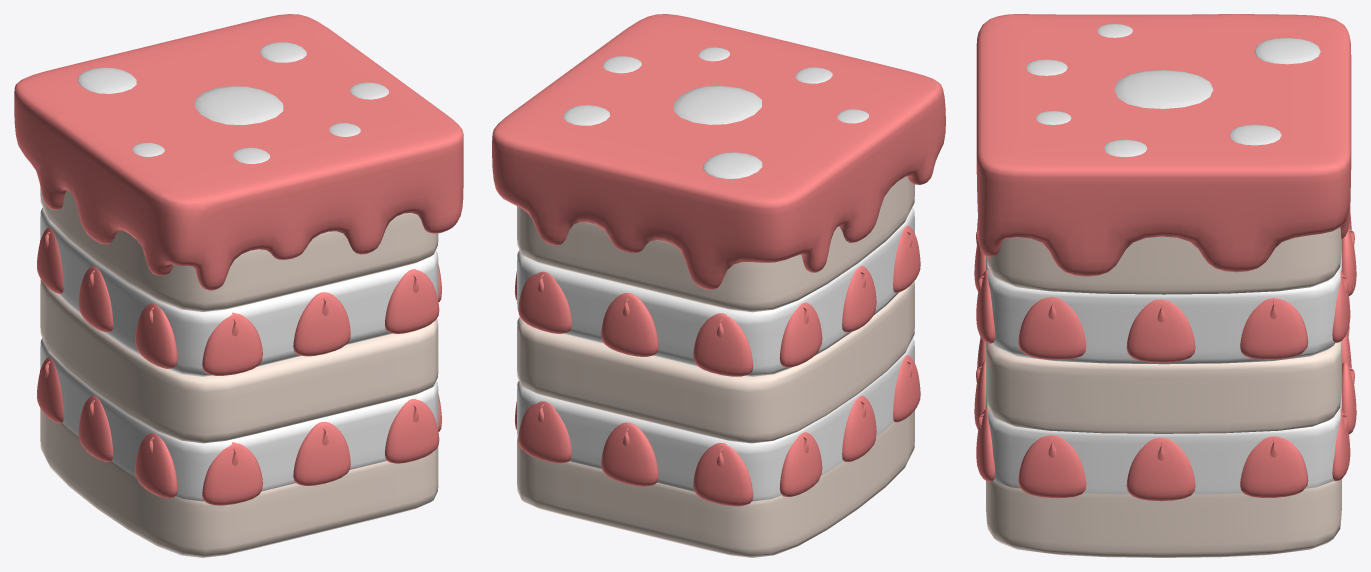
Rendered from straw_cake.obj.
3 renders of one model, left to right at view 1: azimuth 30°, elevation 25°; view 2: azimuth 150°, elevation 25°; view 3: azimuth 270°, elevation 25°, orthographic. The views are drawn at different scales.
Parts seen in each view (by area): view 1: frosting_Material; view 2: frosting_Material; view 3: frosting_Material.
Boxes of the visible parts, left/top/right/bottom form: frosting_Material: left=14, top=14, right=463, bottom=557; frosting_Material: left=492, top=14, right=945, bottom=557; frosting_Material: left=974, top=14, right=1356, bottom=557.
Size of the model in its own units: 2.1 by 2.5 by 2.15.
